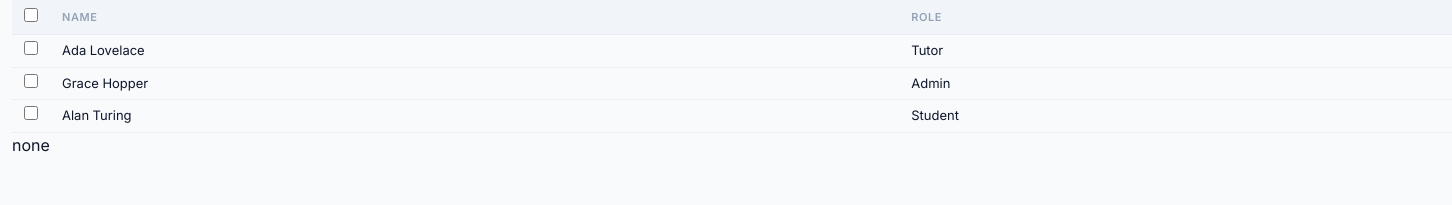
Test: DataTable — row selection › select-all covers only the rows on this page
This screenshot has width=1452, height=205.
Click the checkbox named "Select all on this page" at coordinates (31, 15), box [24,8,38,22]
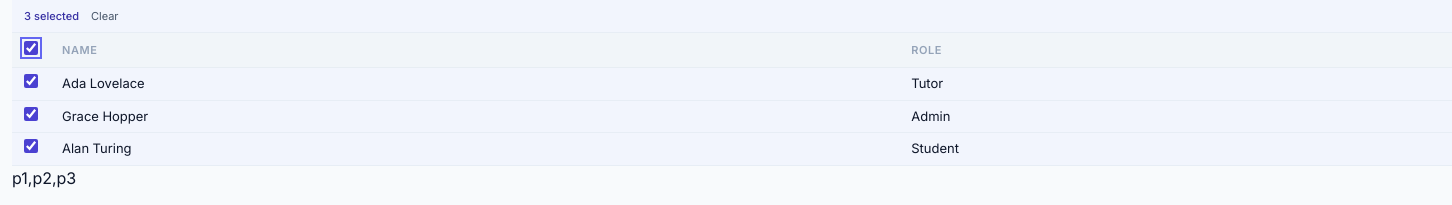
Expected: the text with test id "selected" reads "p1,p2,p3", [12,168,76,188]
